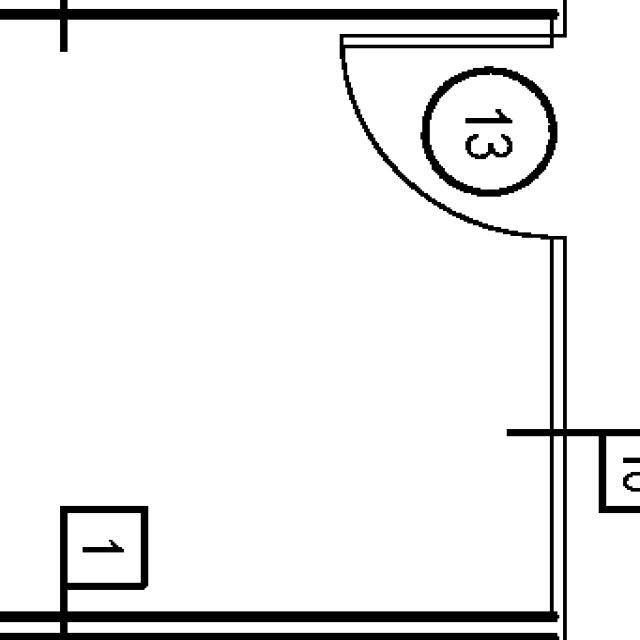Doors: (332, 30, 571, 249)
